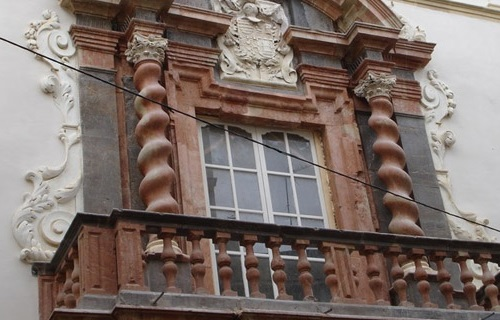columna-salomonica: (366, 96, 426, 235), (130, 59, 179, 214)
